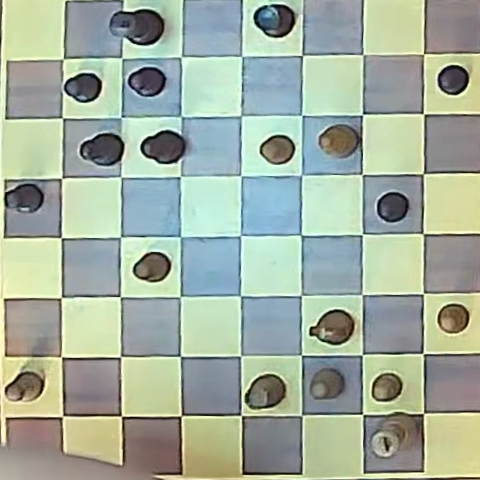black-bishop: (80, 132, 124, 167), (141, 130, 185, 164)
black-king: (111, 8, 163, 46)
black-pawn: (127, 66, 166, 97), (4, 183, 44, 213), (63, 72, 101, 102), (376, 191, 409, 222), (437, 65, 469, 95)
black-rook: (253, 3, 293, 38)
white-bishop: (318, 124, 359, 158)
white-king: (369, 414, 418, 459)
white-knight: (309, 310, 354, 346)
white-pawn: (5, 371, 45, 403), (133, 252, 171, 283), (310, 368, 344, 400), (260, 135, 295, 164), (371, 373, 403, 402), (437, 304, 469, 333)
white-rook: (245, 374, 286, 409)
